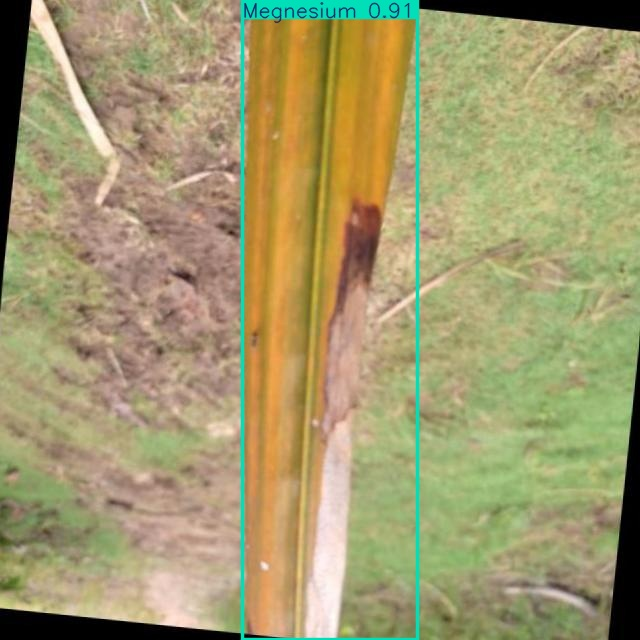Megnesium: (242, 0, 417, 639)
